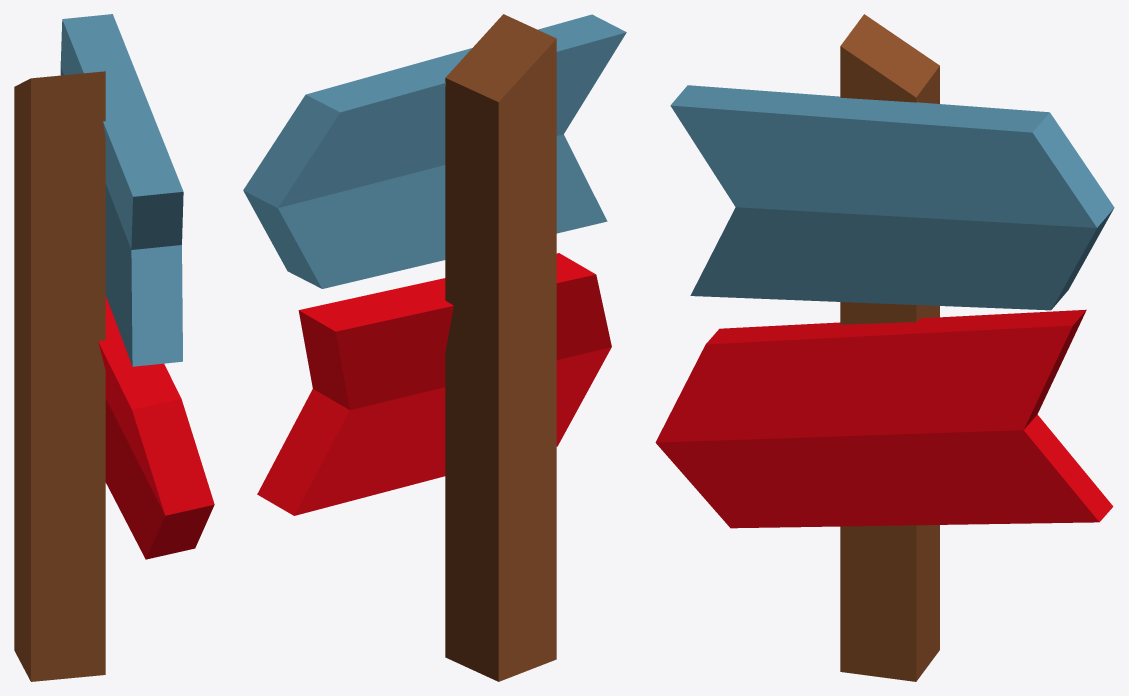
Rendered from SignPost.fbx.
The picture shows the model from 3 angles, left to right: view 1: azimuth 30°, elevation 25°; view 2: azimuth 150°, elevation 25°; view 3: azimuth 270°, elevation 25°; orthographic projection. The views are drawn at different scales.
Visible parts, largest first — view 1: Cube; view 2: Cube; view 3: Cube.
Part boxes in pixels (x1=…): Cube: x1=14, y1=14, x2=214, y2=681; Cube: x1=243, y1=14, x2=626, y2=681; Cube: x1=655, y1=14, x2=1114, y2=681.
Size of the model in its own units: 93.96 by 281 by 187.
